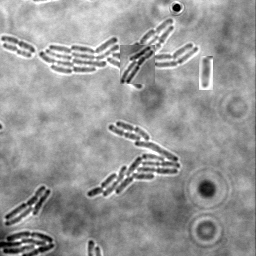Dividing: (1, 34, 37, 52), (3, 41, 33, 57), (199, 56, 213, 90)
Microcolony: (40, 18, 199, 89), (87, 120, 181, 197), (5, 184, 52, 226), (1, 230, 56, 255), (120, 45, 155, 84)
